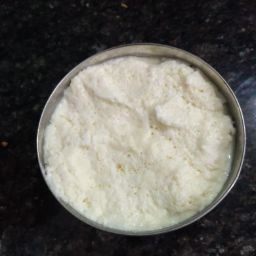Heavy Cream: (21, 33, 256, 237), (44, 143, 233, 210), (167, 84, 227, 213), (119, 77, 168, 228), (74, 75, 222, 122), (60, 103, 124, 205)
